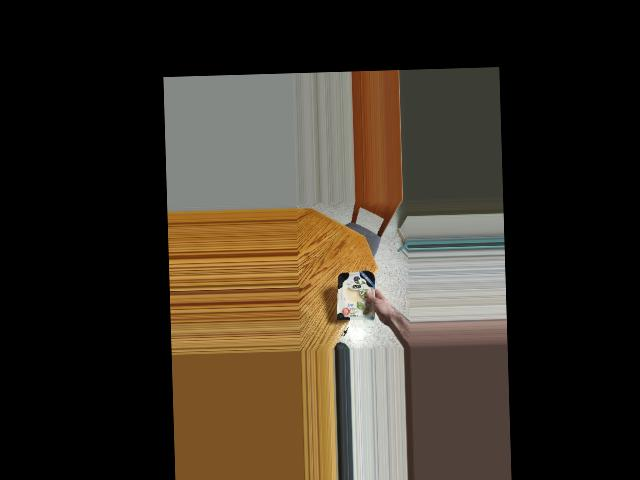cheese: (336, 259, 377, 331)
